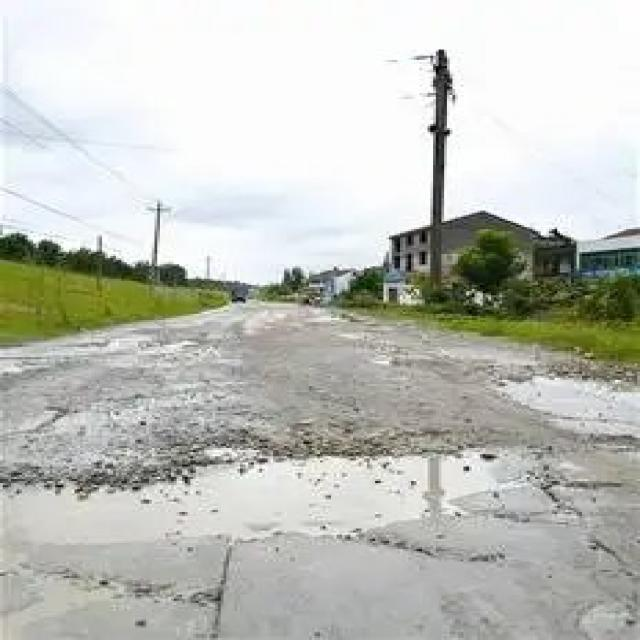Pothole: (6, 436, 554, 551), (488, 372, 638, 442)
